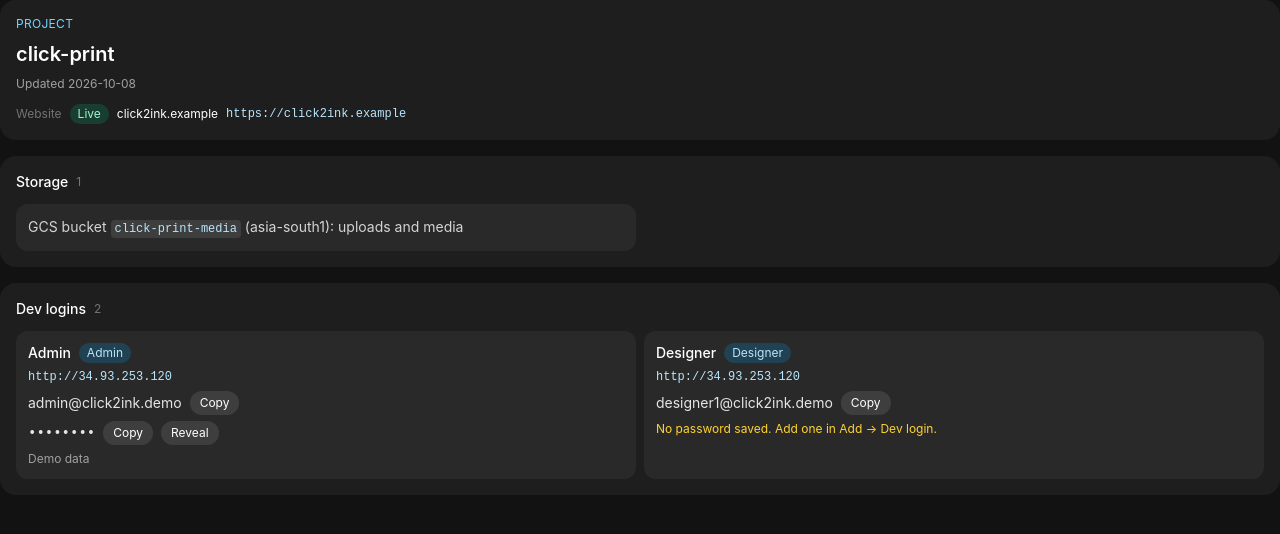
RecordView live site, storage and dev logins › copies the password without showing it
Click the button with aria-label "Copy password for Admin" at (128, 433), box [103,421,153,445]
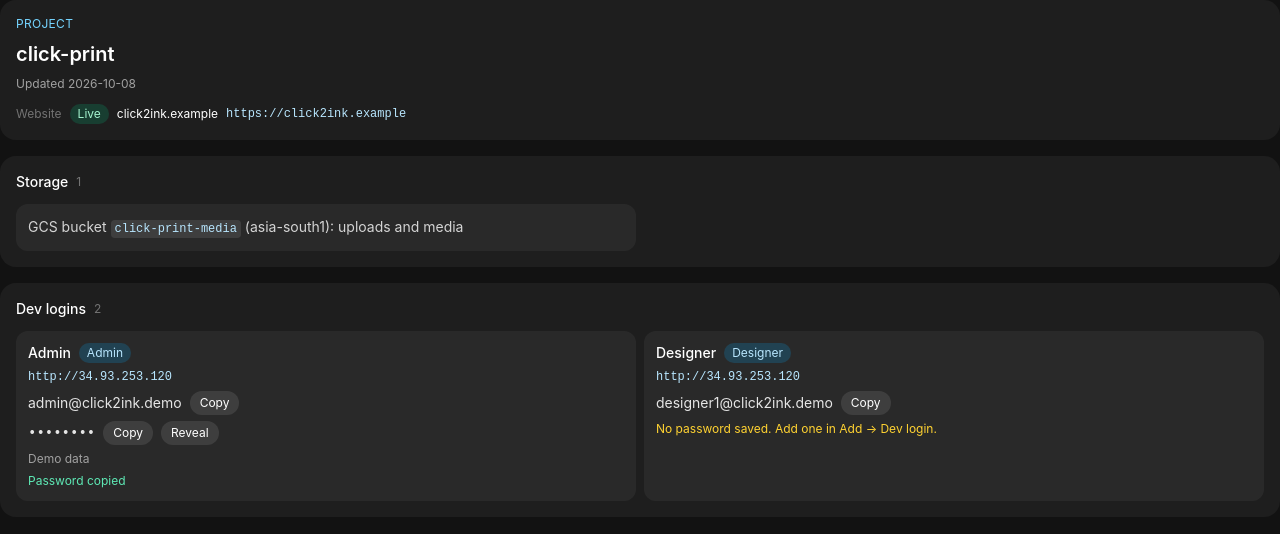
expect the text with test id "password" reads "••••••••": met, box [28,425,95,441]
expect the text "Password copied" is shown: met, box [28,473,126,488]
